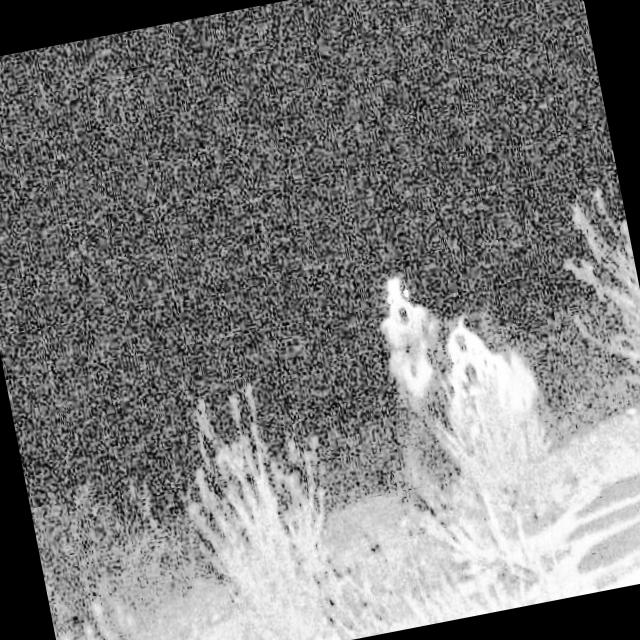Dog: (350, 252, 476, 482), (420, 264, 538, 498)
